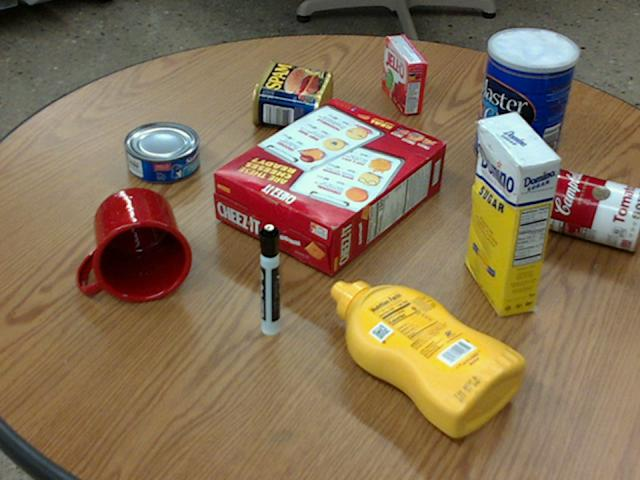cracker_box: (212, 99, 444, 275)
gelatin_box: (383, 34, 426, 113)
large_marker: (257, 223, 278, 335)
master_chef_can: (475, 28, 578, 172)
mug: (75, 187, 190, 302)
mustard_bottle: (330, 281, 524, 436)
potted_meat_can: (251, 59, 333, 130)
sugar_box: (467, 111, 559, 316)
tomato_soup_can: (541, 166, 639, 249)
tuna_fish_can: (124, 121, 198, 181)
